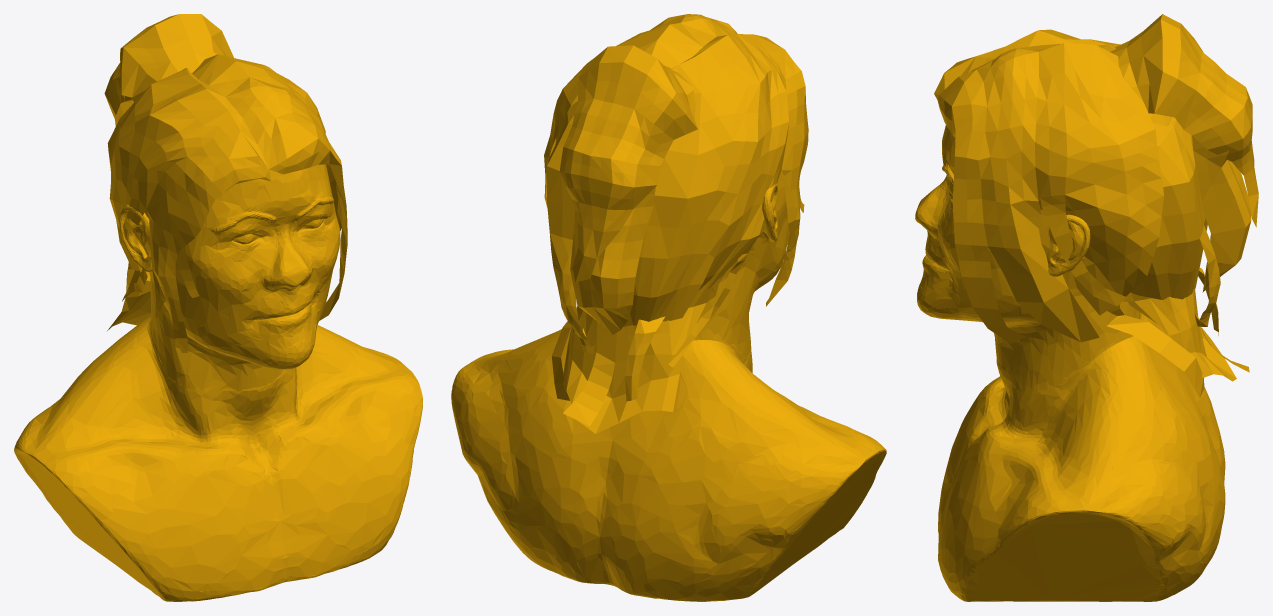
File: domitila.glb
3 views of the same model, side by side, from view 1: azimuth 30°, elevation 25°; view 2: azimuth 150°, elevation 25°; view 3: azimuth 270°, elevation 25° (orthographic). The views are drawn at different scales.
Parts seen in each view (by area): view 1: Domitila_3Dless_Com_Simplified; view 2: Domitila_3Dless_Com_Simplified; view 3: Domitila_3Dless_Com_Simplified.
Part boxes in pixels (left/top/right/bottom): Domitila_3Dless_Com_Simplified: left=14, top=14, right=422, bottom=601; Domitila_3Dless_Com_Simplified: left=451, top=14, right=886, bottom=601; Domitila_3Dless_Com_Simplified: left=915, top=14, right=1258, bottom=601.
Size of the model in its own units: 1.84 by 2.32 by 1.38.
